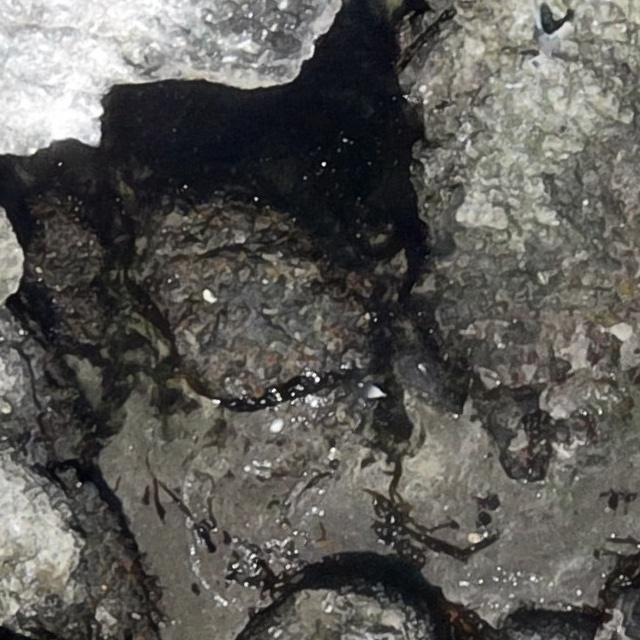umineko: (360, 382, 385, 398)
